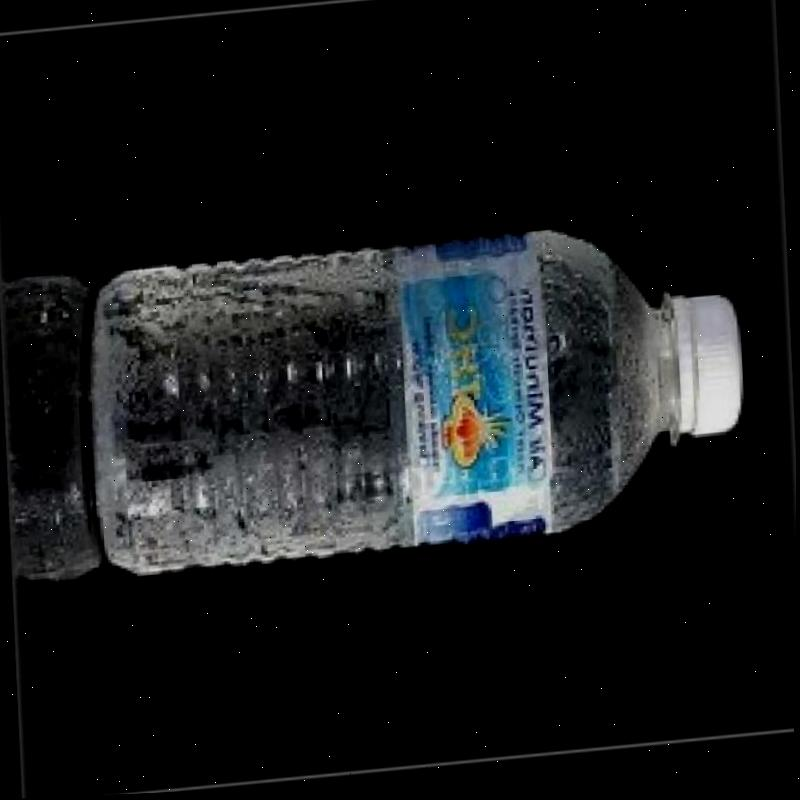botella: (82, 217, 754, 590)
